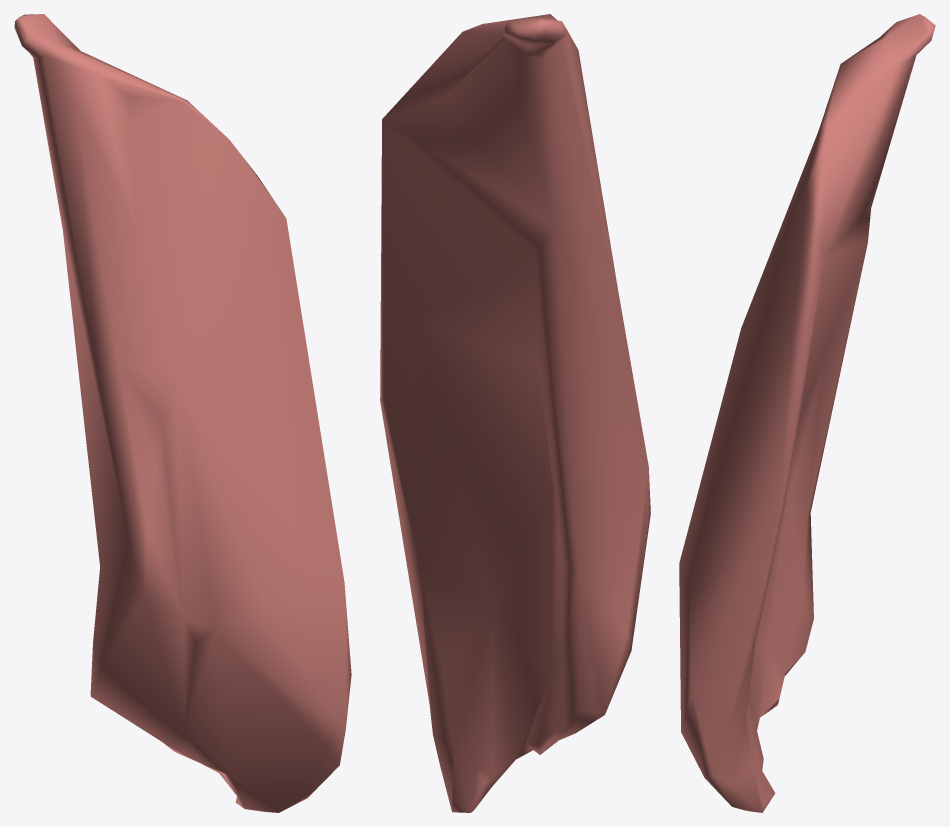
Rendered from fma81544_mm1322.glb.
3 renders of one model, left to right at view 1: azimuth 30°, elevation 25°; view 2: azimuth 150°, elevation 25°; view 3: azimuth 270°, elevation 25°, orthographic. The views are drawn at different scales.
Parts seen in each view (by area): view 1: FMA81544_MM1322; view 2: FMA81544_MM1322; view 3: FMA81544_MM1322.
Boxes of the visible parts, x1,y1,x2,y2 form: FMA81544_MM1322: (14,14,351,812); FMA81544_MM1322: (380,14,650,812); FMA81544_MM1322: (679,14,935,812).
Bounding box in the file's own units: 0.00555 × 0.0184 × 0.00589.
